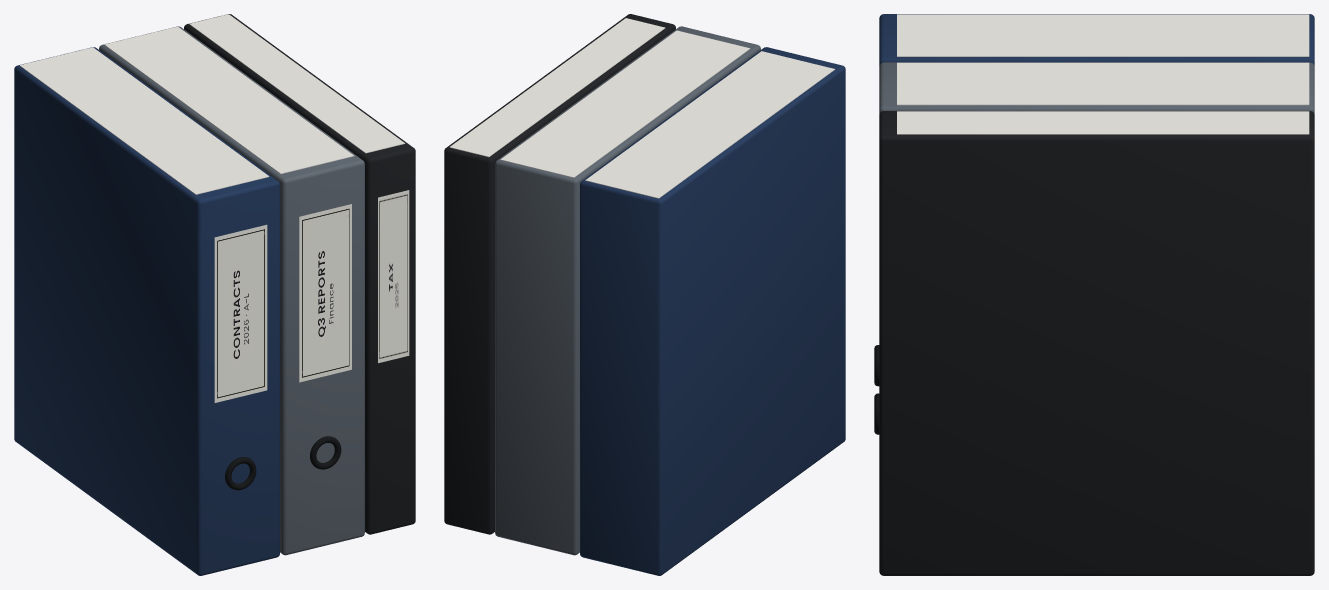
File: herodesk-office-files.glb
The picture shows the model from 3 angles, left to right: view 1: azimuth 30°, elevation 25°; view 2: azimuth 150°, elevation 25°; view 3: azimuth 270°, elevation 25°; orthographic projection. The views are drawn at different scales.
Visible parts, largest first — view 1: herodesk-office-files · mesh; view 2: herodesk-office-files · mesh; view 3: herodesk-office-files · mesh.
Boxes of the visible parts, x1,y1,x2,y2 form: herodesk-office-files · mesh: (14, 14, 415, 575); herodesk-office-files · mesh: (444, 14, 845, 575); herodesk-office-files · mesh: (874, 14, 1314, 575).
Bounding box in the file's own units: 0.193 × 0.3185 × 0.2883.
Materials: 8 (3 with a texture image).
